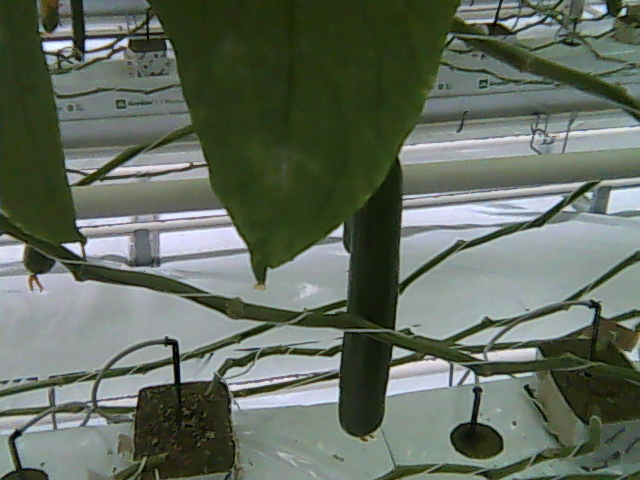concombre: (338, 150, 406, 444)
